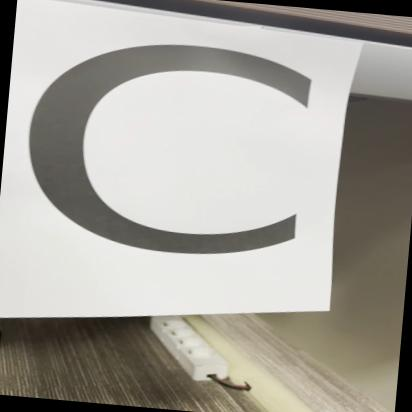seat: (0, 0, 357, 342)
